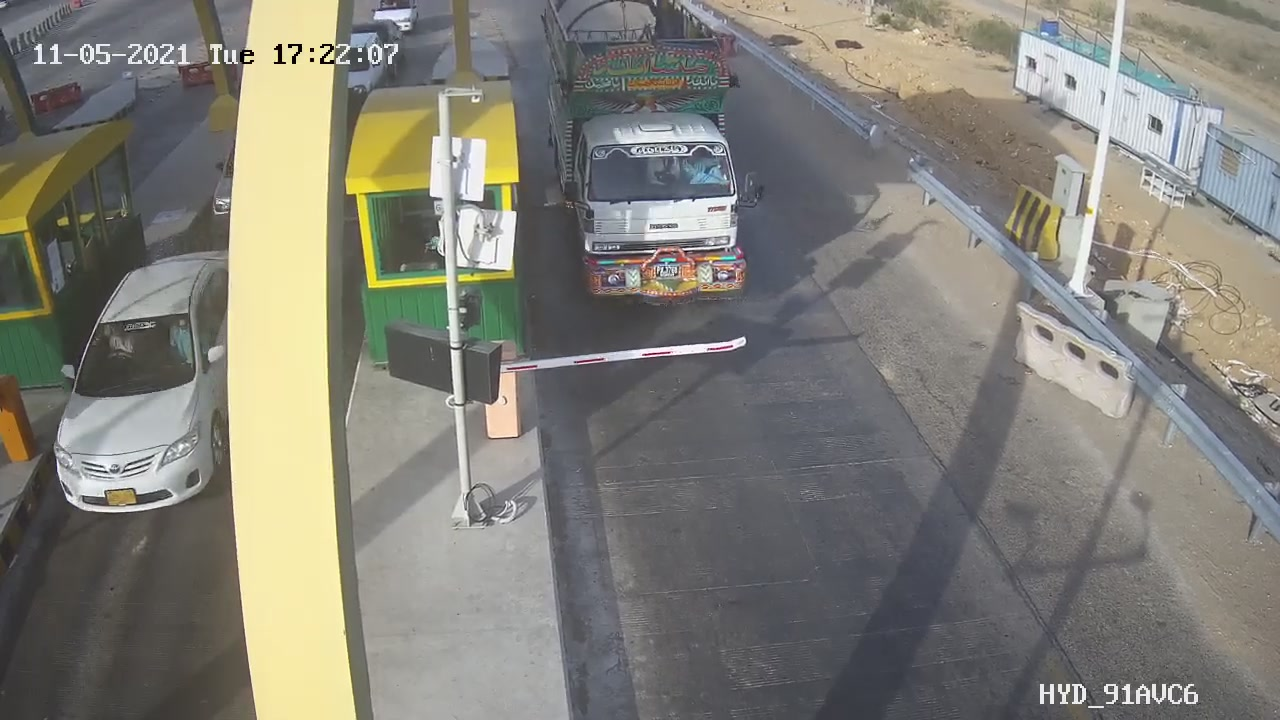F5: (527, 1, 782, 327)
